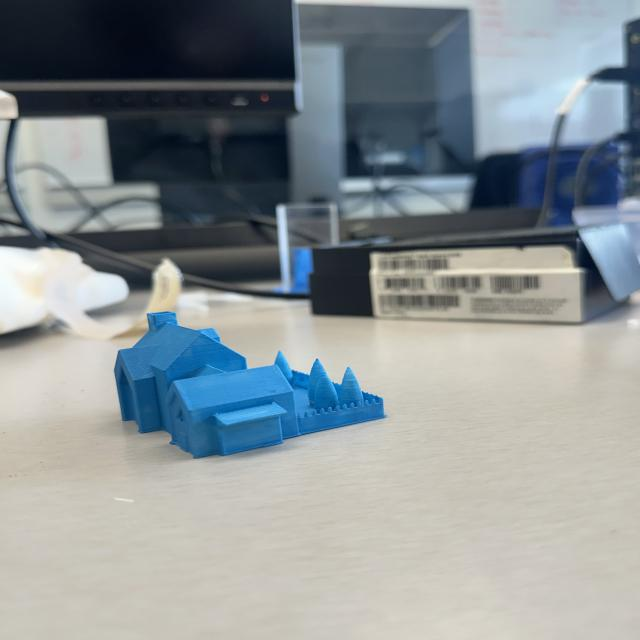house: (111, 310, 388, 460)
